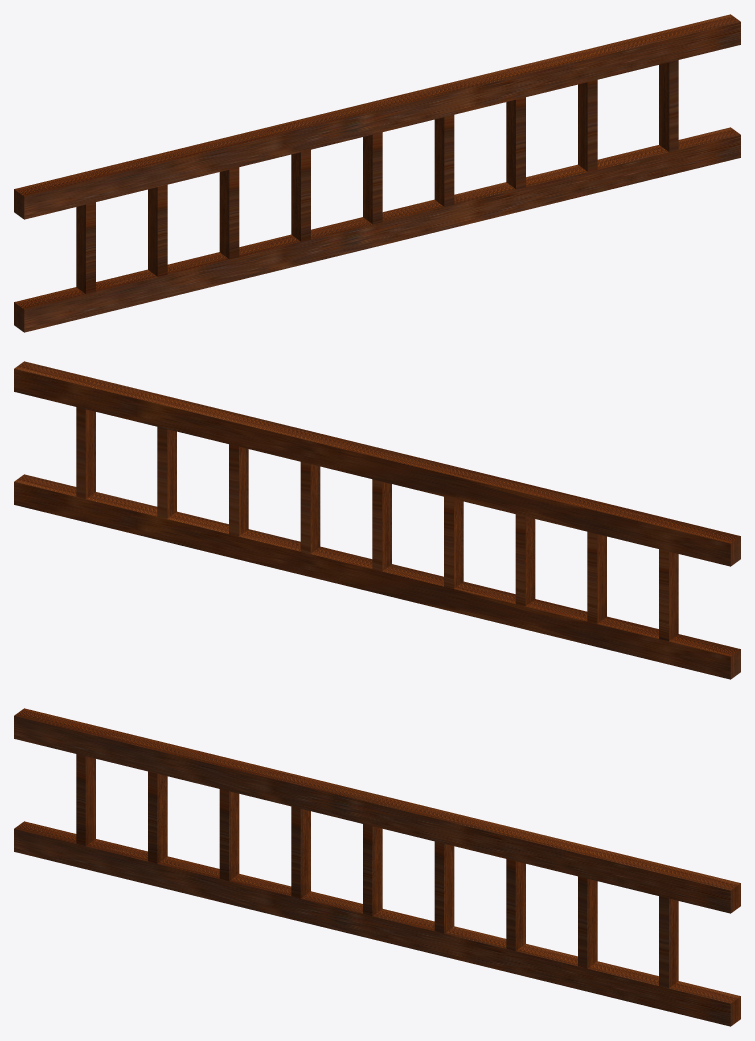
The model's file is railing.fbx.
The picture shows the model from 3 angles, top to bottom: view 1: azimuth 30°, elevation 25°; view 2: azimuth 150°, elevation 25°; view 3: azimuth 330°, elevation 25°; orthographic projection.
Visible parts, largest first — view 1: railings; view 2: railings; view 3: railings.
Boxes of the visible parts, x1,y1,x2,y2 form: railings: (14, 14, 740, 332); railings: (14, 361, 740, 679); railings: (14, 708, 740, 1026).
Bounding box in the file's own units: 293 × 53.06 × 7.24.
1 material, 1 textured.
